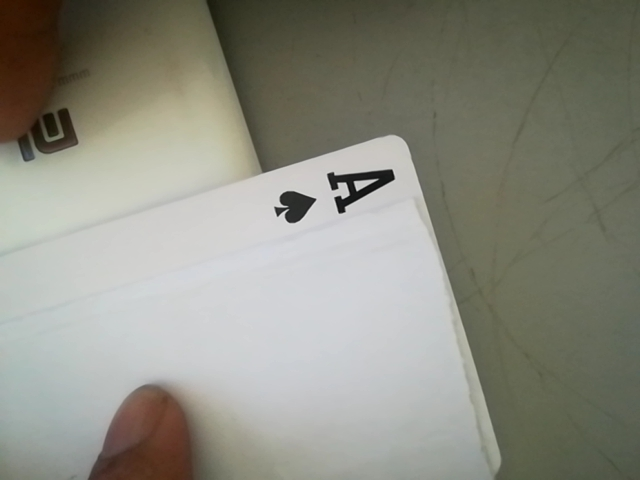ht a: (257, 155, 411, 231)
